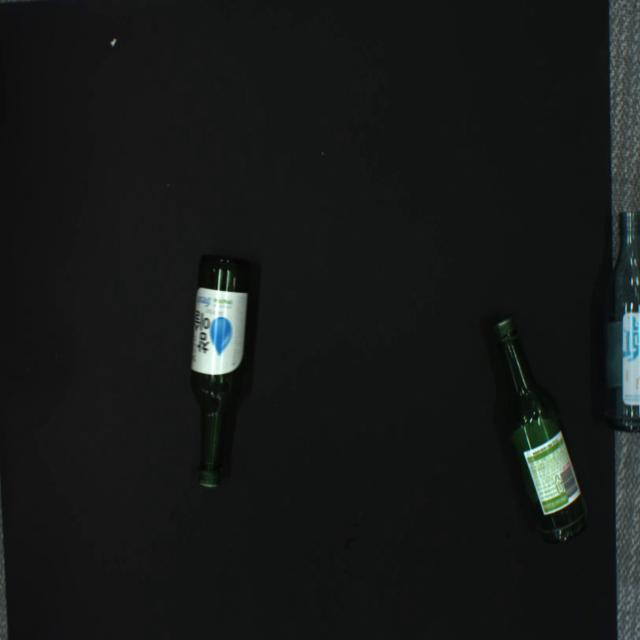soju-bottle: (493, 317, 590, 543), (190, 252, 252, 489), (602, 211, 640, 434)
